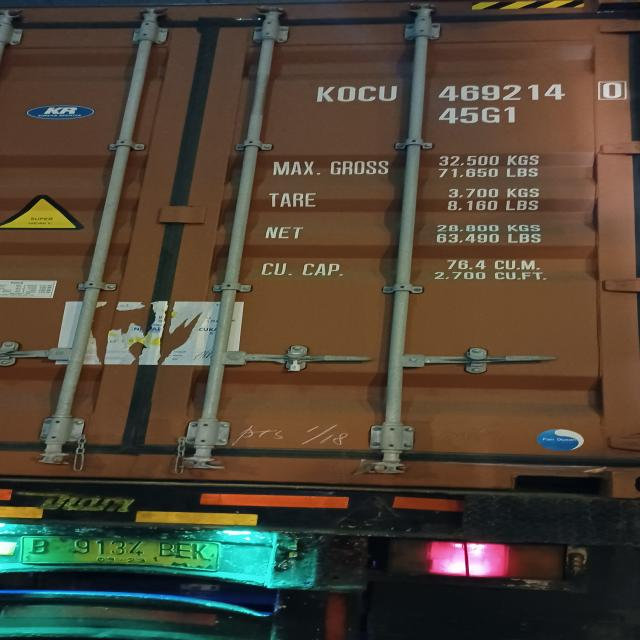seal: (287, 352, 308, 377)
